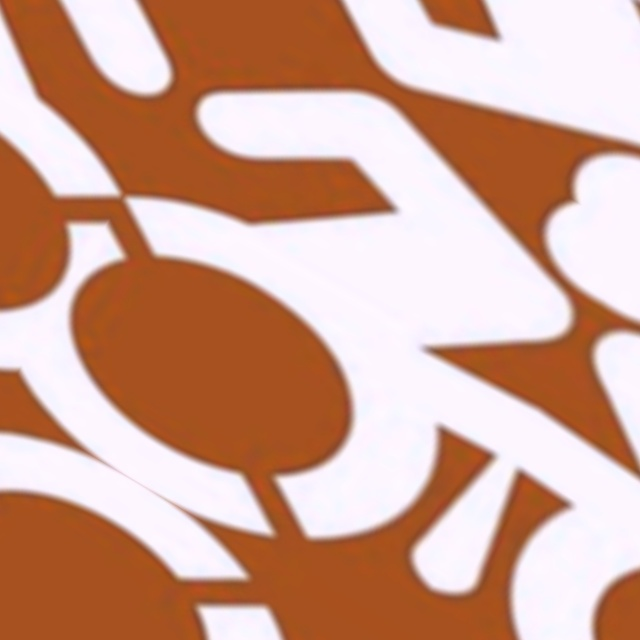ISA: (0, 0, 640, 640), (239, 0, 640, 239), (0, 0, 239, 401), (401, 239, 640, 640), (0, 401, 401, 640)
